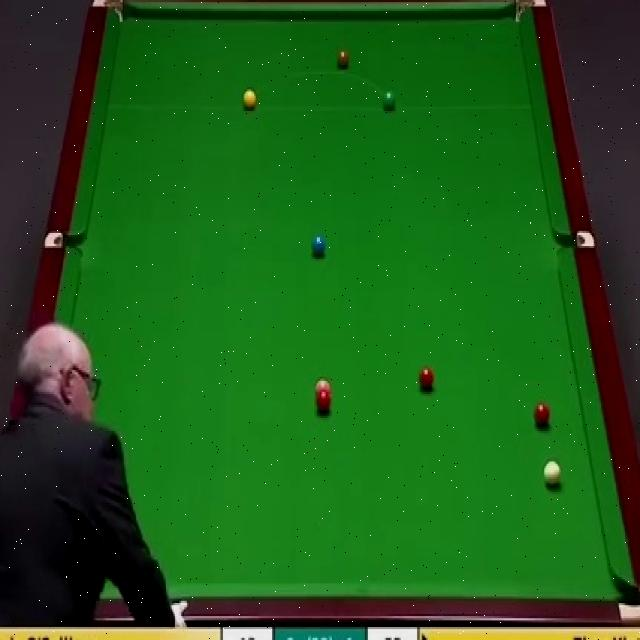blue-ball: (312, 236, 324, 258)
brown-ball: (334, 50, 351, 70)
green-ball: (381, 88, 396, 111)
pink-ball: (314, 378, 333, 392)
red-ball: (533, 402, 551, 430), (418, 367, 434, 391), (316, 392, 332, 416)
white-ball: (545, 458, 563, 485)
yellow-ball: (242, 88, 256, 111)
